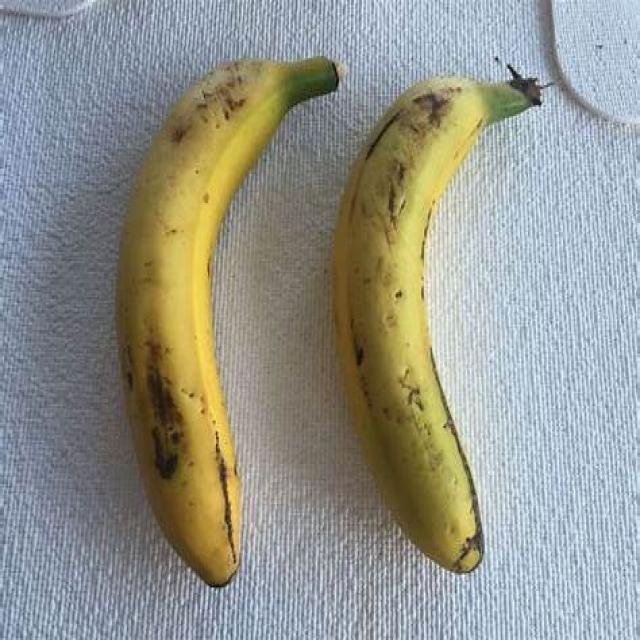Banana: (113, 52, 342, 591), (336, 62, 555, 578)
